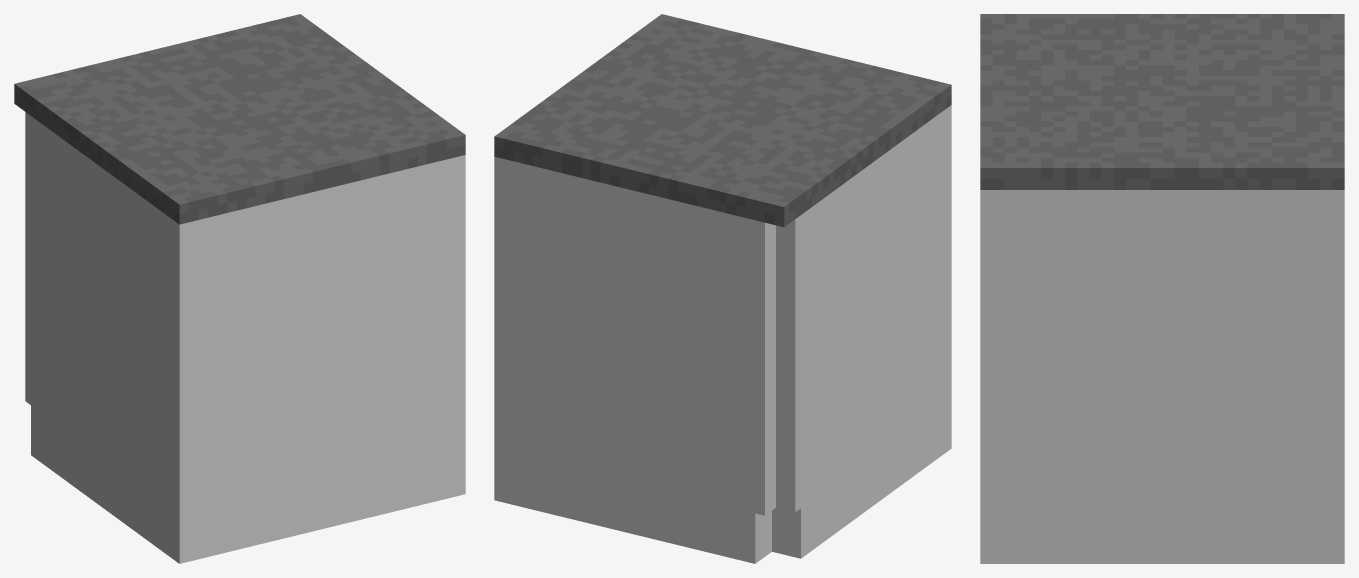
File: countertop_corner_03.glb
3 views of the same model, side by side, from view 1: azimuth 30°, elevation 25°; view 2: azimuth 150°, elevation 25°; view 3: azimuth 270°, elevation 25° (orthographic). The views are drawn at different scales.
Visible parts, largest first — view 1: Untitled; view 2: Untitled; view 3: Untitled.
Part boxes in pixels (x1=…): Untitled: x1=14, y1=14, x2=465, y2=563; Untitled: x1=494, y1=14, x2=951, y2=563; Untitled: x1=980, y1=14, x2=1344, y2=563.
Bounding box in the file's own units: 0.9 × 1.08 × 0.9.
1 material, 1 textured.
